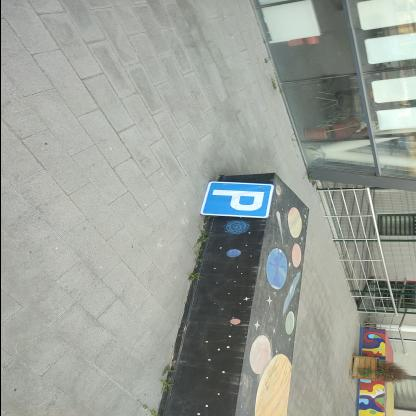Parking-Sign: (202, 182, 277, 220)
